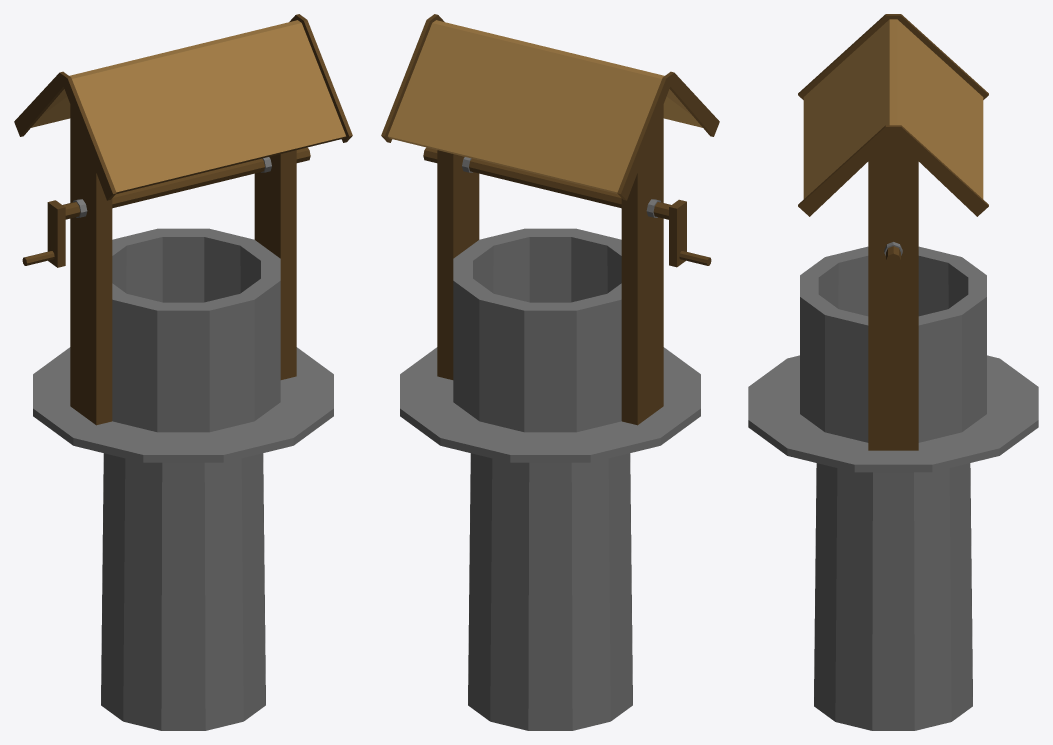
File: WaterWell.fbx
The picture shows the model from 3 angles, left to right: view 1: azimuth 30°, elevation 25°; view 2: azimuth 150°, elevation 25°; view 3: azimuth 270°, elevation 25°; orthographic projection. The views are drawn at different scales.
Parts seen in each view (by area): view 1: Waterput; view 2: Waterput; view 3: Waterput.
Boxes of the visible parts, x1,y1,x2,y2 form: Waterput: (14,14,352,730); Waterput: (381,14,719,730); Waterput: (748,14,1038,730).
Size of the model in its own units: 2.22 by 4.77 by 2.
